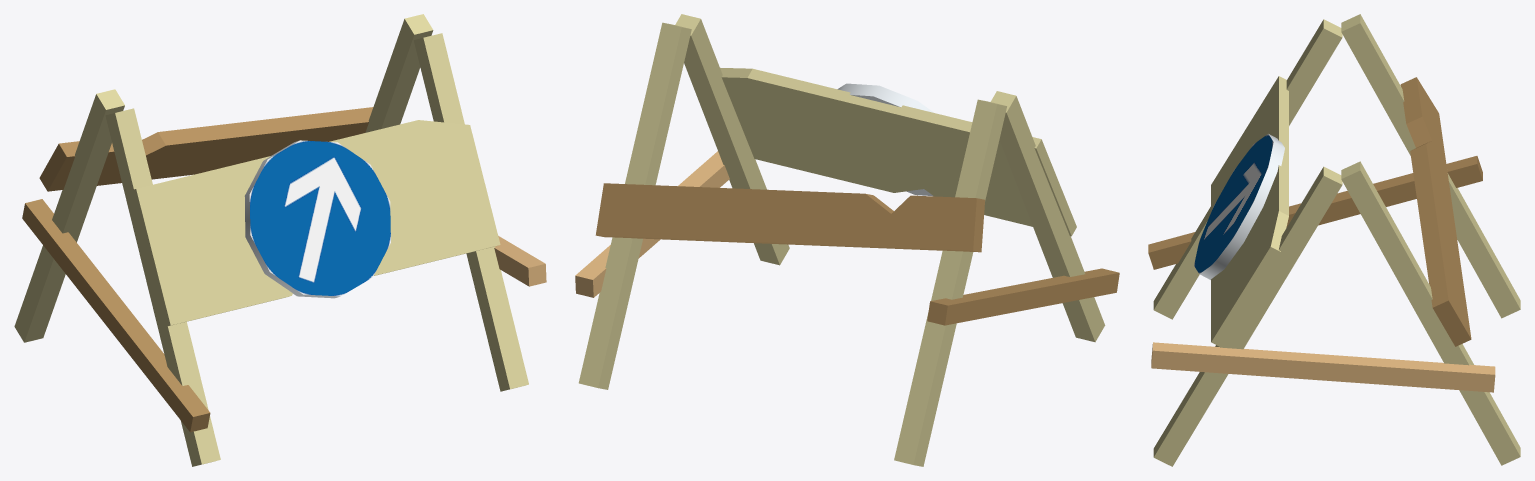
The model's file is barrier_3.fbx.
The picture shows the model from 3 angles, left to right: view 1: azimuth 30°, elevation 25°; view 2: azimuth 150°, elevation 25°; view 3: azimuth 270°, elevation 25°; orthographic projection. The views are drawn at different scales.
Visible parts, largest first — view 1: barrier_3; view 2: barrier_3; view 3: barrier_3.
Boxes of the visible parts, box(x1,y1,x2,y2) form: barrier_3: box(14, 14, 546, 466); barrier_3: box(575, 14, 1119, 466); barrier_3: box(1148, 14, 1520, 466).
Bounding box in the file's own units: 228 × 183 × 209.
